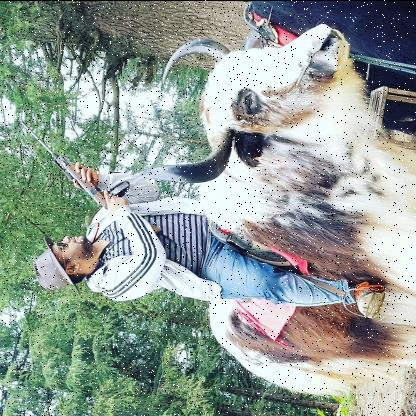rifle: (19, 119, 163, 236)
